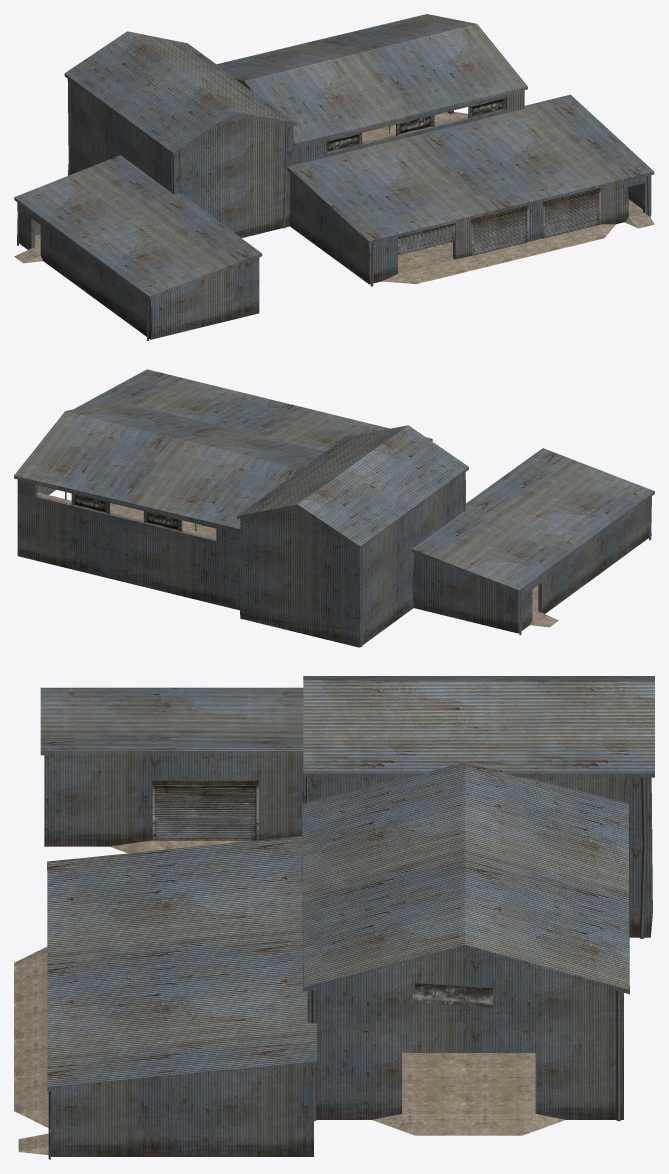
Rendered from Garg01.glb.
3 views of the same model, one above another, from view 1: azimuth 30°, elevation 25°; view 2: azimuth 150°, elevation 25°; view 3: azimuth 270°, elevation 25° (orthographic). The views are drawn at different scales.
Visible parts, largest first — view 1: _Garg01; view 2: _Garg01; view 3: _Garg01.
Part boxes in pixels (left/top/right/bottom): _Garg01: left=14, top=14, right=654, bottom=340; _Garg01: left=14, top=369, right=654, bottom=647; _Garg01: left=14, top=676, right=654, bottom=1159.
Bounding box in the file's own units: 47.62 × 11.5 × 31.39.
6 materials, 6 textured.
